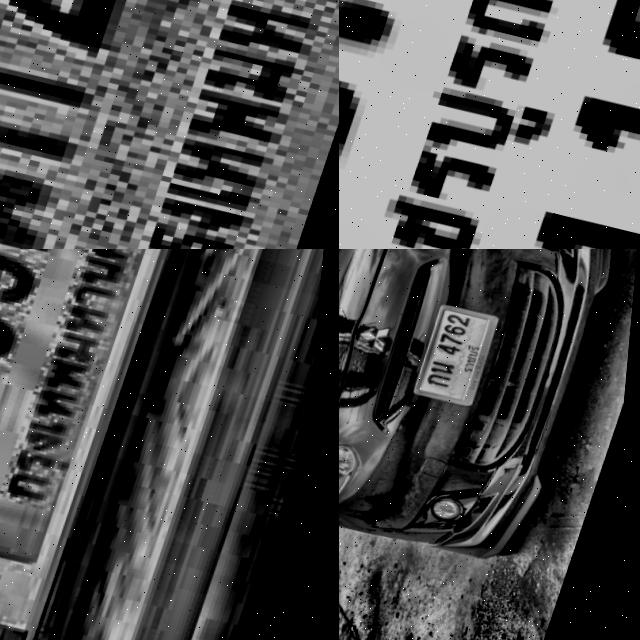license-plate: (0, 249, 250, 640), (0, 0, 339, 249), (339, 0, 640, 249), (414, 300, 511, 411)
